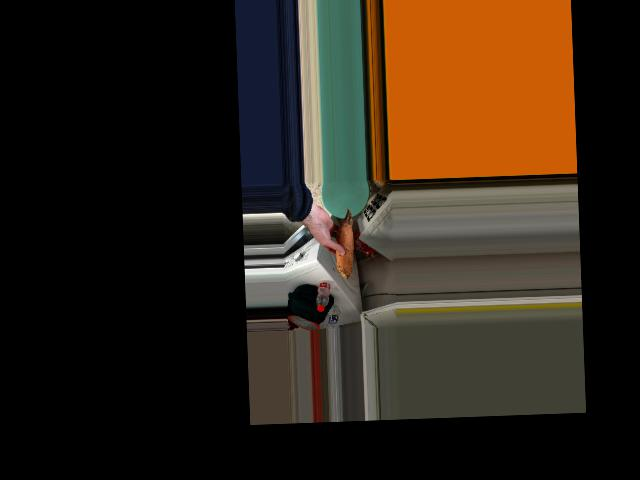sweet_potato: (331, 213, 356, 274)
